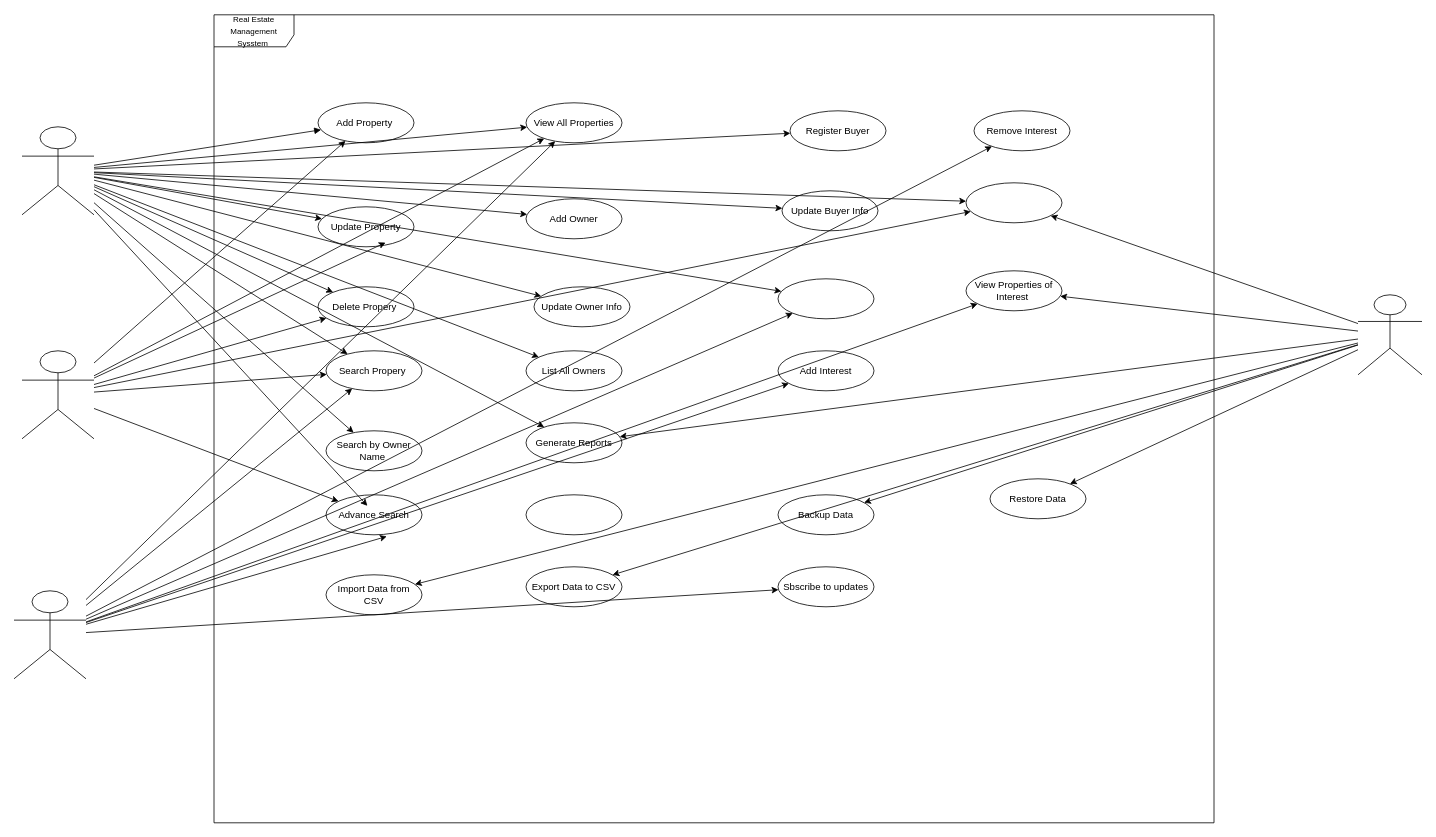
Some shapes in this 1436 by 837 pixel diagram are drawn without their labels. The centre of each missing label's shape, as x and y in pixels:
Buyer: the point at 49,634
Filter by Price Range: the point at 573,514
Property Owner: the point at 57,394
Real Estate Agent: the point at 57,170
System Admin: the point at 1389,334
View Buyer Details: the point at 825,298
View Interested Buyers: the point at 1013,202
